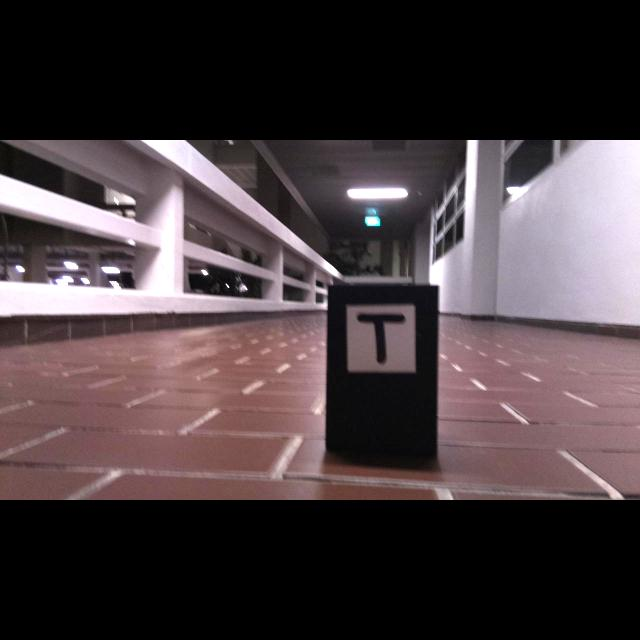T: (357, 313, 406, 363)
